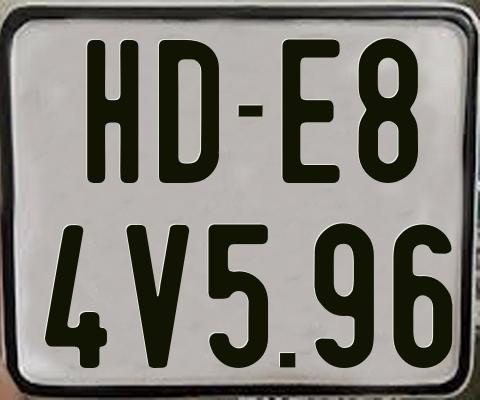4: (45, 223, 113, 372)
5: (205, 223, 270, 369)
6: (393, 223, 459, 370)
8: (357, 35, 419, 186)
9: (312, 221, 374, 368)
D: (156, 40, 218, 186)
E: (279, 39, 340, 184)
H: (87, 38, 143, 187)
V: (125, 223, 191, 367)
